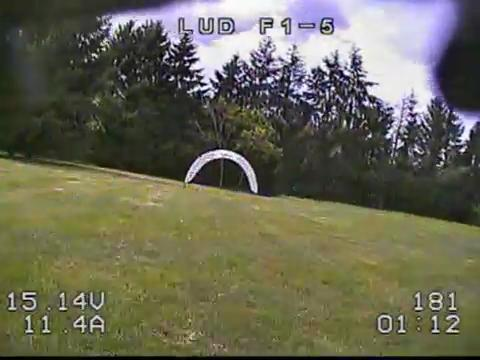gate: (185, 150, 257, 193)
